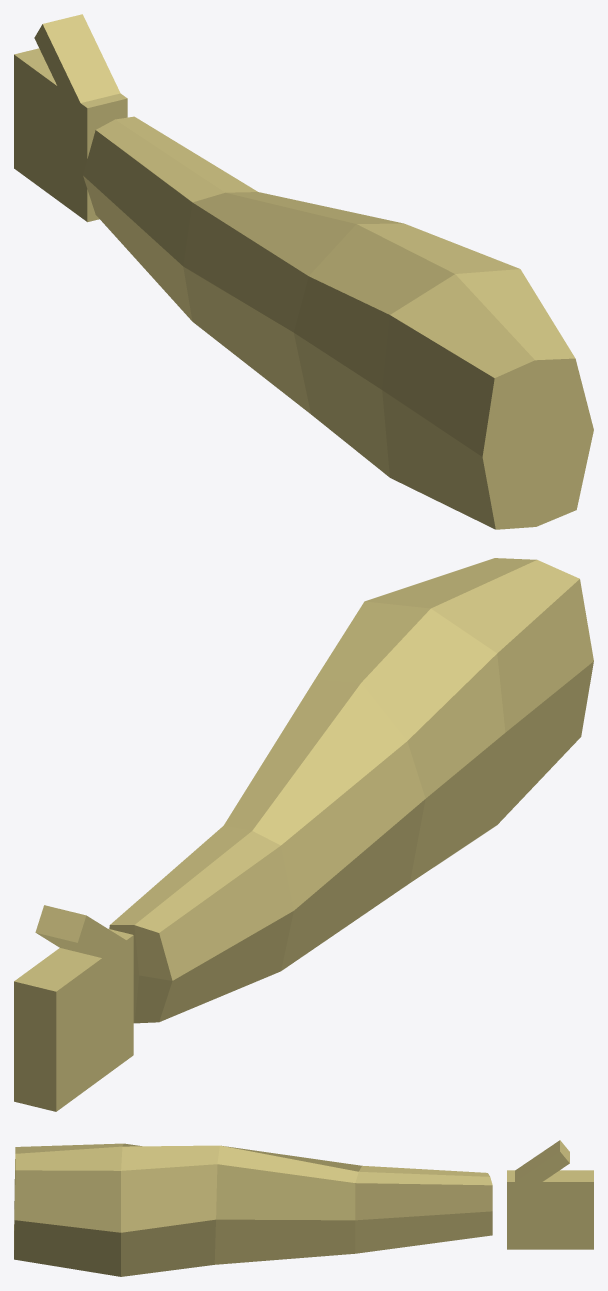
Rendered from Rarm.fbx.
3 renders of one model, top to bottom at view 1: azimuth 30°, elevation 25°; view 2: azimuth 150°, elevation 25°; view 3: azimuth 270°, elevation 25°, orthographic. The views are drawn at different scales.
Parts seen in each view (by area): view 1: Rarm; view 2: Rarm; view 3: Rarm.
Part boxes in pixels (left/top/right/bottom): Rarm: left=14, top=14, right=593, bottom=529; Rarm: left=14, top=558, right=593, bottom=1111; Rarm: left=14, top=1140, right=593, bottom=1276.
Size of the model in its own units: 73.82 by 80.41 by 362.
